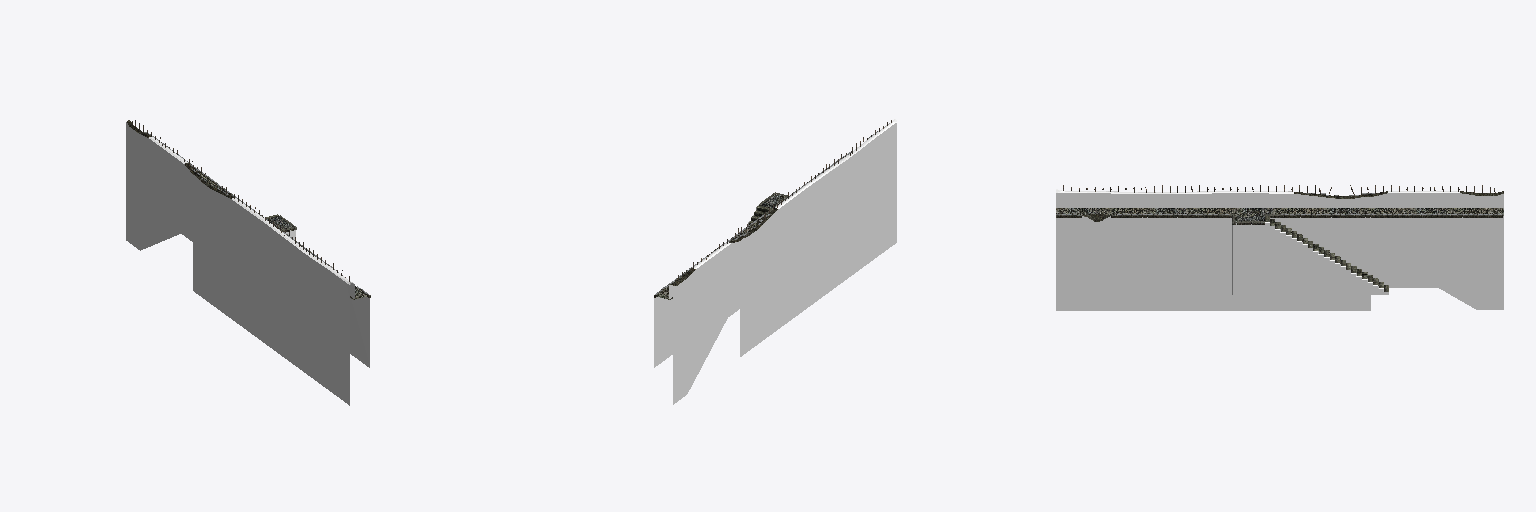
3 renders of one model, left to right at view 1: azimuth 30°, elevation 25°; view 2: azimuth 150°, elevation 25°; view 3: azimuth 270°, elevation 25°, orthographic.
Parts seen in each view (by area): view 1: mesh3; view 2: mesh3; view 3: mesh3, mesh4, mesh0, mesh5.
Boxes of the visible parts, x1=… form: mesh3: x1=126, y1=122, x2=369, y2=405; mesh3: x1=654, y1=119, x2=896, y2=404; mesh3: x1=1056, y1=189, x2=1503, y2=310; mesh4: x1=1056, y1=208, x2=1503, y2=221; mesh0: x1=1056, y1=193, x2=1502, y2=217; mesh5: x1=1265, y1=216, x2=1388, y2=291.
Bounding box in the file's own units: 2.33 × 8.14 × 25.84.
7 materials, 6 textured.